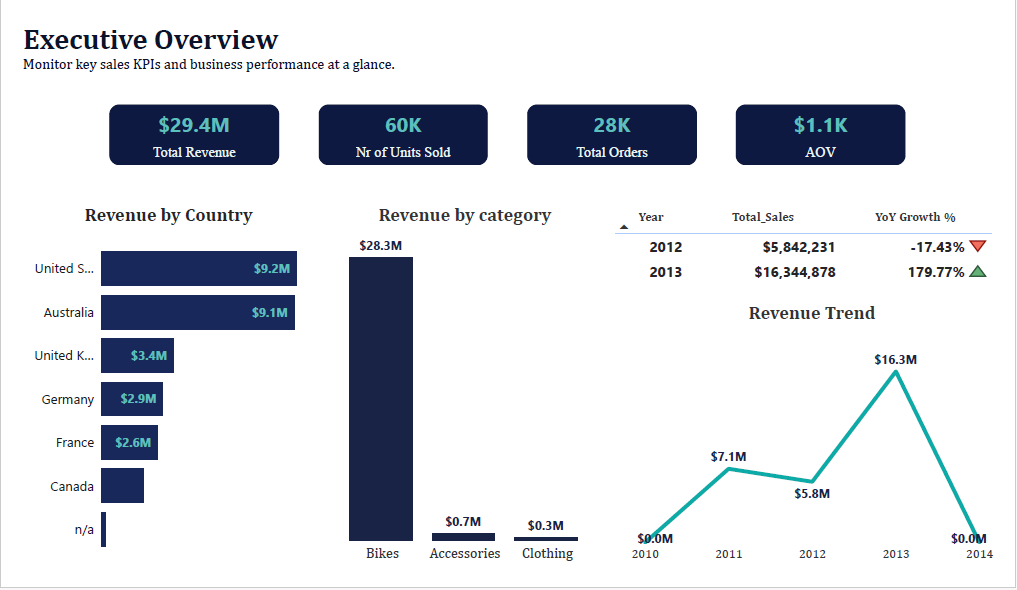

The dashboard page shown, as its layout file describes it:
{"tool":"powerbi","page":{"name":"Executive Overview","canvas":[1280,720],"ordinal":0},"visuals":[{"type":"textbox","box":[0,0,583.3,95],"z":0},{"type":"cardVisual","fields":{"Data":["gold fact_sales.Average_Order_Value"]},"box":[921.3,95.5,255.7,113.1],"z":1000},{"type":"cardVisual","fields":{"Data":["gold fact_sales.Total_Sales"]},"box":[101.4,95.5,255.7,113.1],"z":2000},{"type":"cardVisual","fields":{"Data":["gold fact_sales.Total_Quantity"]},"box":[374.7,95.5,255.7,113.1],"z":3000},{"type":"cardVisual","fields":{"Data":["gold fact_sales.Total_Orders"]},"box":[648,95.5,255.7,113.1],"z":4000},{"type":"lineChart","title":"Revenue Trend","fields":{"Category":["dim_date.Date Hierarchy.Year","dim_date.Date Hierarchy.Month_name","dim_date.Date Hierarchy.Quarter","dim_date.Date Hierarchy.Day"],"Y":["Created_measures.Total_Sales"]},"box":[796.4,370.3,483.4,349.7],"z":5000},{"type":"clusteredColumnChart","title":"Revenue by category","fields":{"Y":["gold fact_sales.Total_Sales"],"Category":["gold dim_products.category"]},"box":[383.5,242.4,399.7,477.6],"z":6000},{"type":"barChart","title":"Revenue by Country","fields":{"Category":["gold dim_customers.country"],"Y":["gold fact_sales.Total_Sales"]},"box":[0,242.4,390.9,477.6],"z":7000},{"type":"tableEx","fields":{"Values":["dim_date.Year","Created_measures.Total_Sales","Created_measures.YoY Growth %"]},"box":[775,241.7,505,128.3],"z":8000}]}

Visuals, with their boxes on the page's 1280x720 design canvas (x1, y1, x2, y2). These are canvas units, not pixel positions in the 1017x590 screenshot, which may show the page scaled, cropped or inside an application window:
textbox: {"x1": 0, "y1": 0, "x2": 583, "y2": 95}
cardVisual - gold fact_sales.Average_Order_Value: {"x1": 921, "y1": 96, "x2": 1177, "y2": 209}
cardVisual - gold fact_sales.Total_Sales: {"x1": 101, "y1": 96, "x2": 357, "y2": 209}
cardVisual - gold fact_sales.Total_Quantity: {"x1": 375, "y1": 96, "x2": 630, "y2": 209}
cardVisual - gold fact_sales.Total_Orders: {"x1": 648, "y1": 96, "x2": 904, "y2": 209}
"Revenue Trend" lineChart: {"x1": 796, "y1": 370, "x2": 1280, "y2": 720}
"Revenue by category" clusteredColumnChart: {"x1": 384, "y1": 242, "x2": 783, "y2": 720}
"Revenue by Country" barChart: {"x1": 0, "y1": 242, "x2": 391, "y2": 720}
tableEx - dim_date.Year x Created_measures.Total_Sales: {"x1": 775, "y1": 242, "x2": 1280, "y2": 370}
